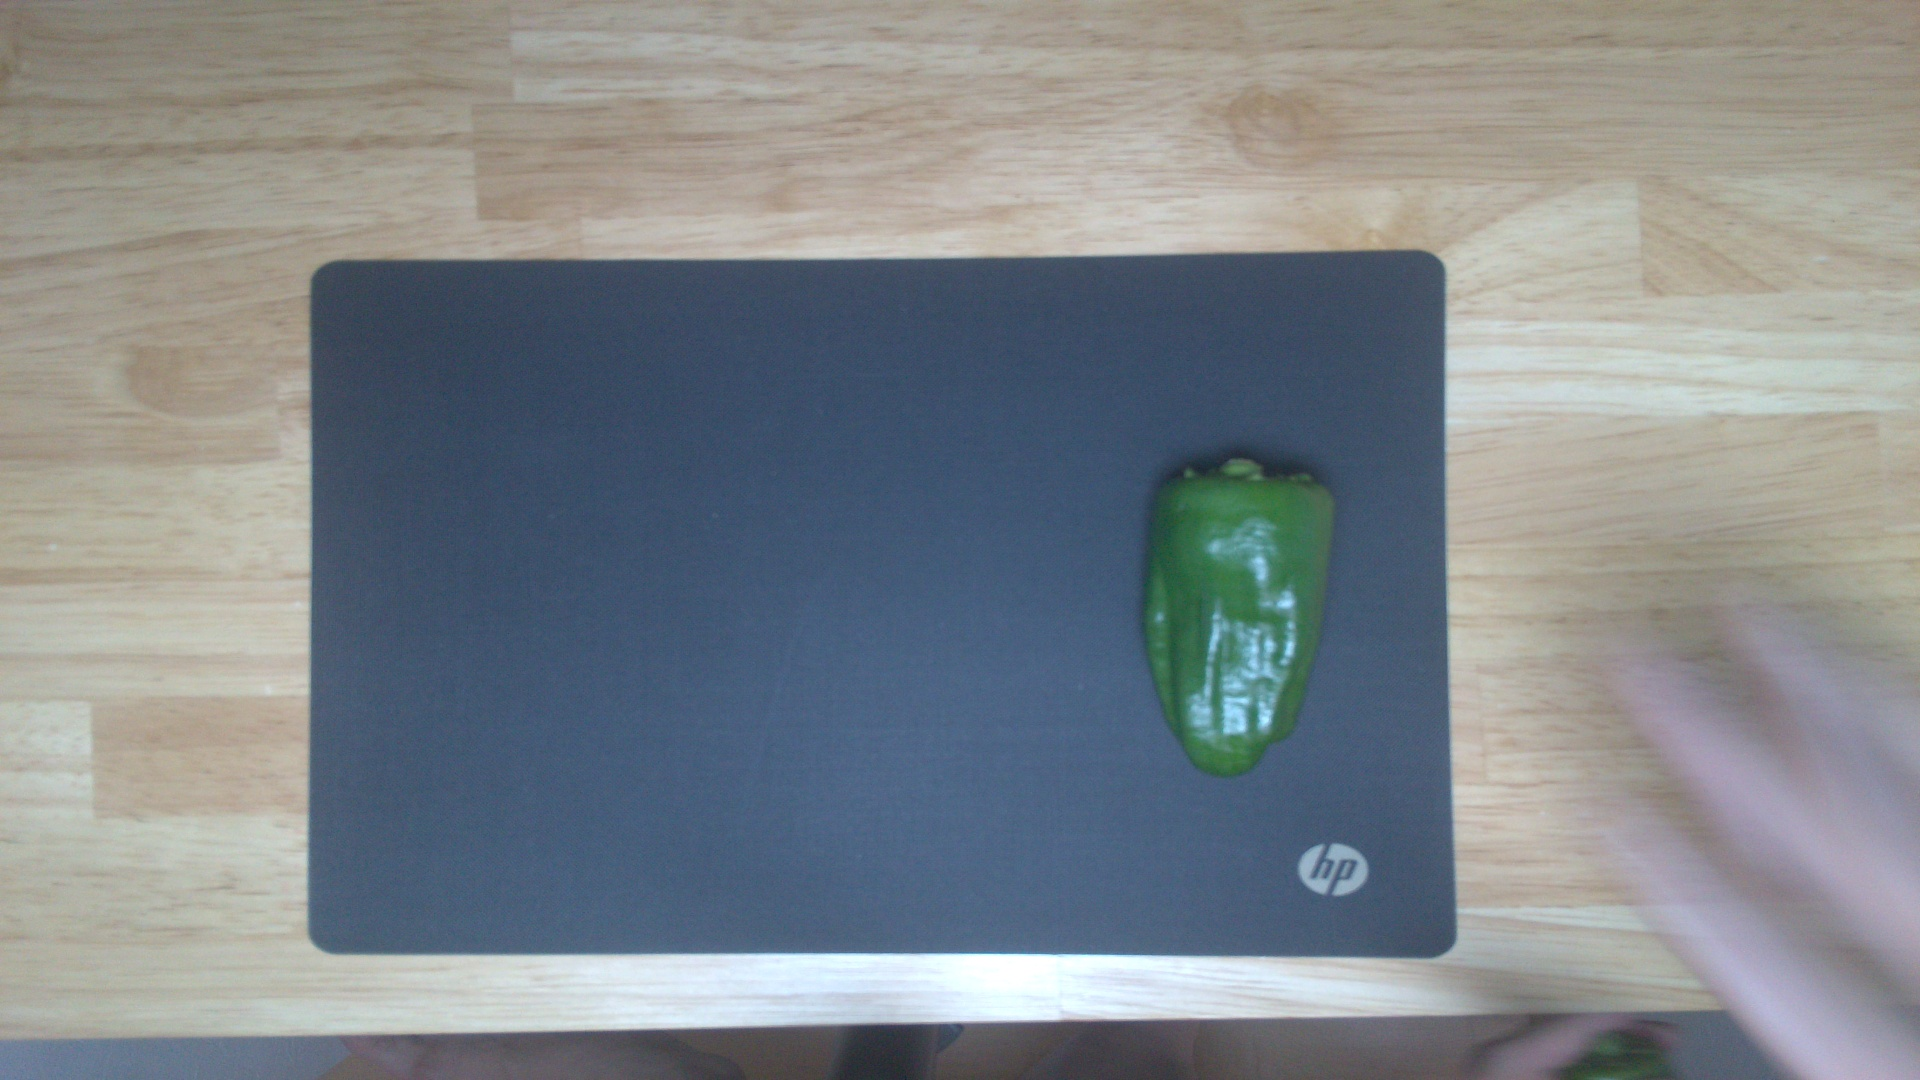Piman: (1134, 446, 1338, 778)
